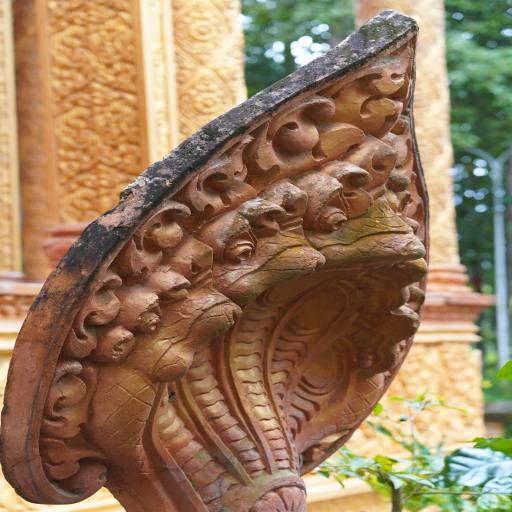ran: (4, 4, 450, 512)
